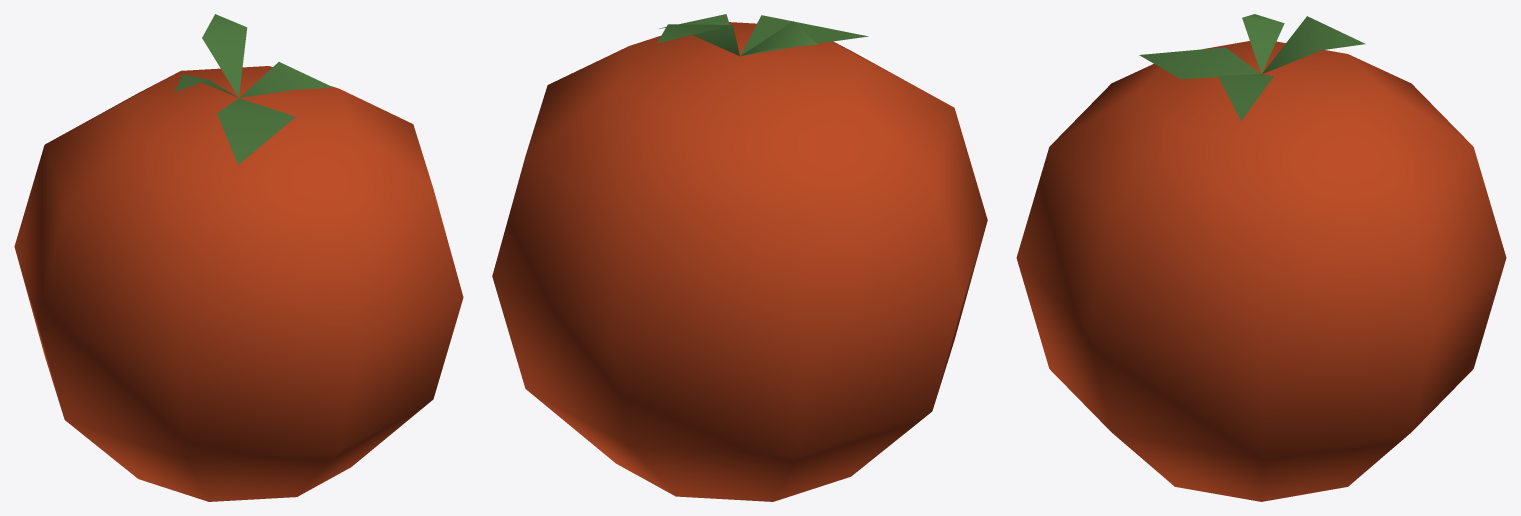
File: tomato.fbx
The picture shows the model from 3 angles, left to right: view 1: azimuth 30°, elevation 25°; view 2: azimuth 150°, elevation 25°; view 3: azimuth 270°, elevation 25°; orthographic projection. The views are drawn at different scales.
Parts seen in each view (by area): view 1: Tomate; view 2: Tomate; view 3: Tomate.
Part boxes in pixels (x1,y1,x2,y2): Tomate: (14,14,463,501); Tomate: (492,14,987,501); Tomate: (1016,14,1506,501).
Size of the model in its own units: 16.73 by 16.73 by 16.74.
